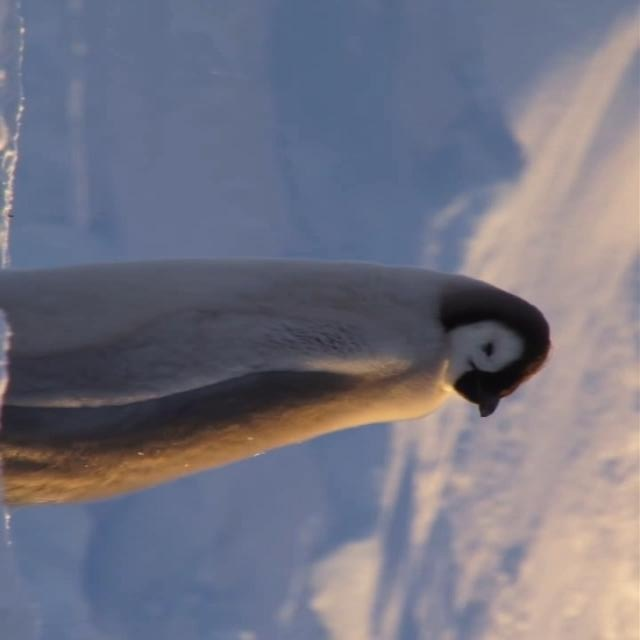penguin: (3, 256, 551, 510)
